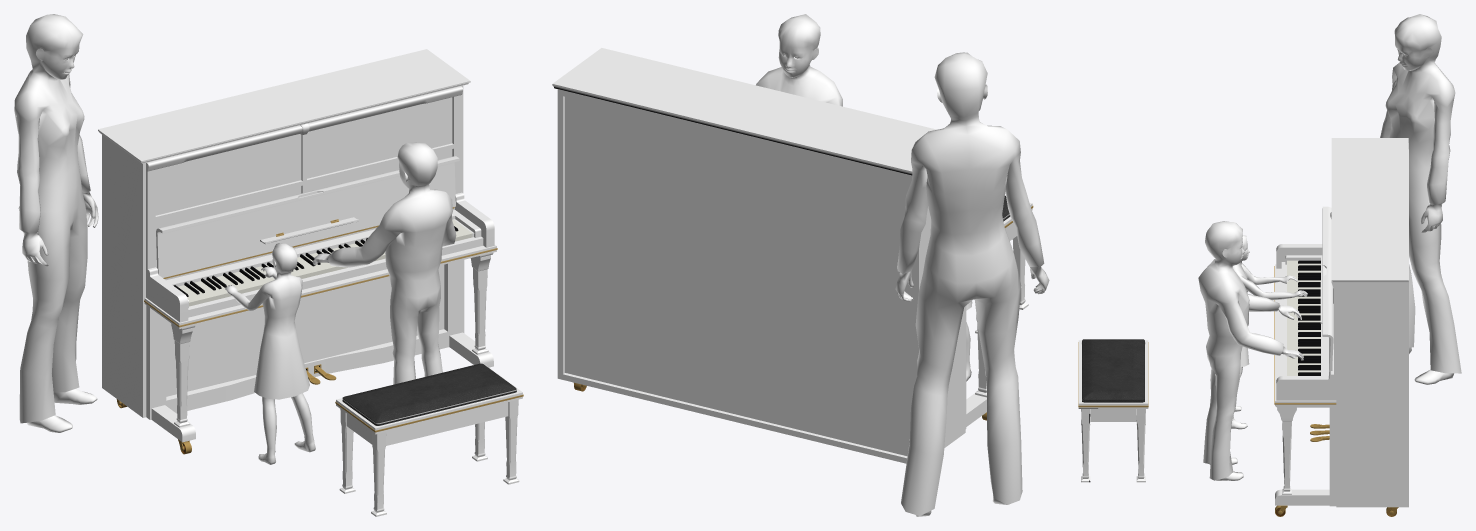
Rendered from 59piano_people02.glb.
3 renders of one model, left to right at view 1: azimuth 30°, elevation 25°; view 2: azimuth 150°, elevation 25°; view 3: azimuth 270°, elevation 25°, orthographic. The views are drawn at different scales.
Visible parts, largest first — view 1: Piano.001, Piano_Mother, Piano_Child01, Piano_chair, Piano_Child02; view 2: Piano.001, Piano_Mother, Piano_Child01, Piano_chair; view 3: Piano.001, Piano_Mother, Piano_Child01, Piano_chair, Piano_Child02.
Part boxes in pixels (x1=…): Piano.001: x1=98, y1=49, x2=497, y2=454; Piano_Mother: x1=14, y1=14, x2=98, y2=432; Piano_Child01: x1=312, y1=142, x2=456, y2=384; Piano_chair: x1=335, y1=363, x2=523, y2=516; Piano_Child02: x1=225, y1=243, x2=315, y2=464; Piano.001: x1=552, y1=48, x2=986, y2=463; Piano_Mother: x1=895, y1=52, x2=1049, y2=516; Piano_Child01: x1=756, y1=14, x2=842, y2=106; Piano_chair: x1=975, y1=195, x2=1033, y2=333; Piano.001: x1=1274, y1=138, x2=1408, y2=516; Piano_Mother: x1=1380, y1=14, x2=1461, y2=384; Piano_Child01: x1=1198, y1=221, x2=1303, y2=480; Piano_chair: x1=1078, y1=339, x2=1148, y2=482; Piano_Child02: x1=1231, y1=235, x2=1307, y2=429.
Size of the model in its own units: 1.96 by 1.77 by 1.75.
Materials: 3 (2 with a texture image).
